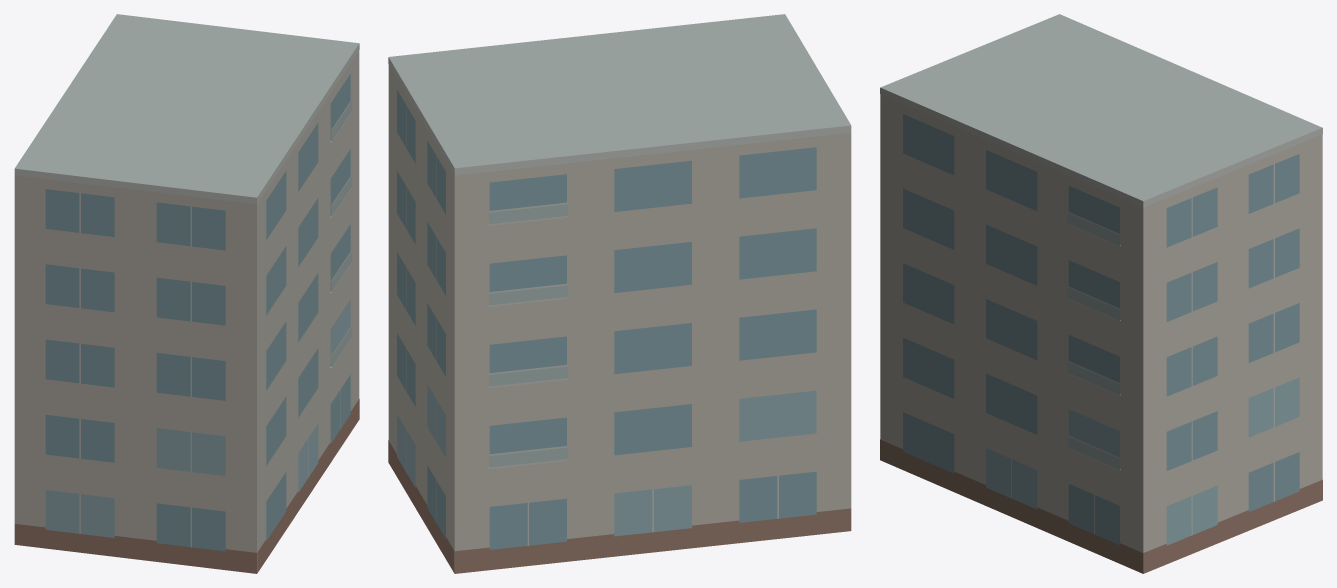
File: survey-upis-32815288.glb
3 renders of one model, left to right at view 1: azimuth 30°, elevation 25°; view 2: azimuth 150°, elevation 25°; view 3: azimuth 270°, elevation 25°, orthographic. The views are drawn at different scales.
Parts seen in each view (by area): view 1: survey-upis-32815288.tmp; view 2: survey-upis-32815288.tmp; view 3: survey-upis-32815288.tmp.
Part boxes in pixels (x1,y1,x2,y2): survey-upis-32815288.tmp: (14,14,359,573); survey-upis-32815288.tmp: (388,14,851,573); survey-upis-32815288.tmp: (880,14,1322,573).
Size of the model in its own units: 14.84 by 13.77 by 14.82.
